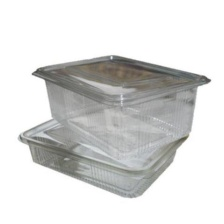plastic_box: (26, 49, 215, 164), (14, 98, 196, 201)
